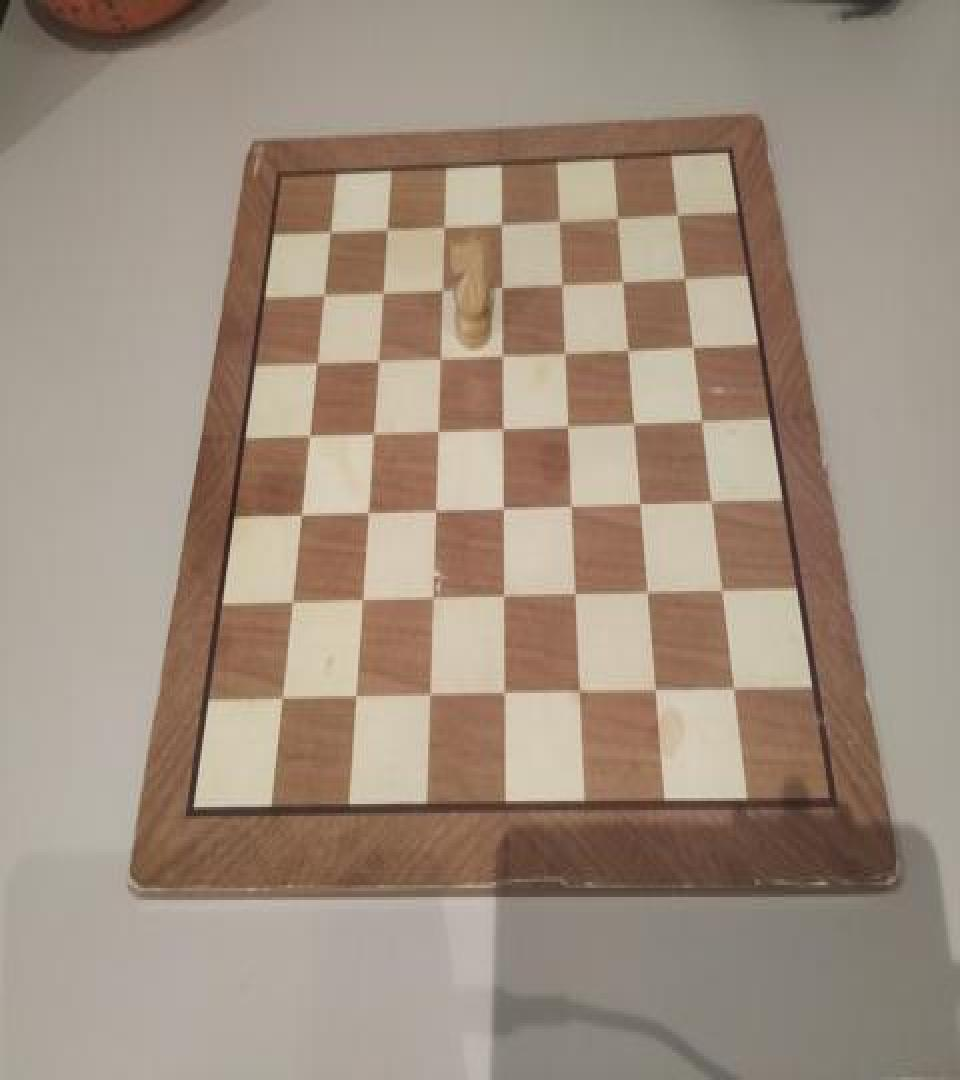xcorner: (358, 499, 378, 530), (271, 687, 291, 717), (345, 686, 365, 716), (495, 681, 515, 711), (571, 678, 591, 708), (648, 676, 668, 706), (281, 590, 301, 620), (352, 588, 372, 618), (423, 585, 443, 615), (494, 582, 514, 612), (567, 579, 587, 609), (640, 578, 660, 608), (715, 574, 735, 604), (291, 501, 311, 531), (426, 496, 446, 526), (494, 494, 514, 524), (564, 490, 584, 520), (633, 488, 653, 518), (704, 484, 724, 514), (299, 422, 319, 452), (364, 418, 384, 448), (429, 416, 449, 446), (494, 411, 514, 441), (560, 408, 580, 438), (627, 405, 647, 435), (695, 402, 715, 432), (307, 346, 327, 376), (369, 344, 389, 374), (431, 340, 451, 370), (494, 338, 514, 368), (557, 334, 577, 364), (621, 330, 641, 360), (686, 327, 706, 357), (315, 279, 335, 309), (374, 276, 394, 306), (434, 272, 454, 302), (494, 268, 514, 298), (555, 266, 575, 296), (616, 261, 636, 291), (678, 258, 698, 288), (321, 216, 341, 246), (378, 213, 398, 243), (436, 208, 456, 238), (494, 206, 514, 236), (552, 201, 572, 231), (611, 198, 631, 228), (671, 195, 691, 225), (419, 683, 439, 712), (726, 674, 746, 703)
